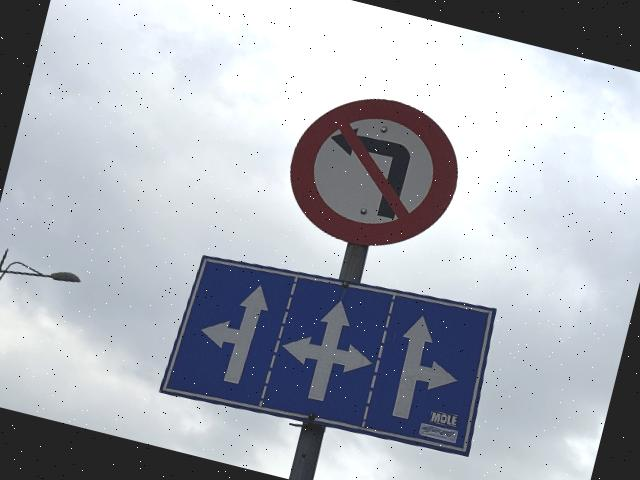cam-re-trai: (276, 80, 474, 266)
